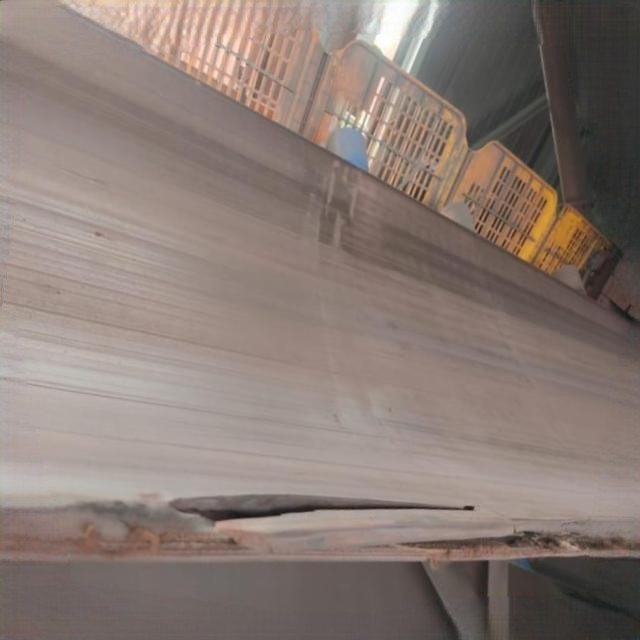Tear: (164, 482, 483, 533)
